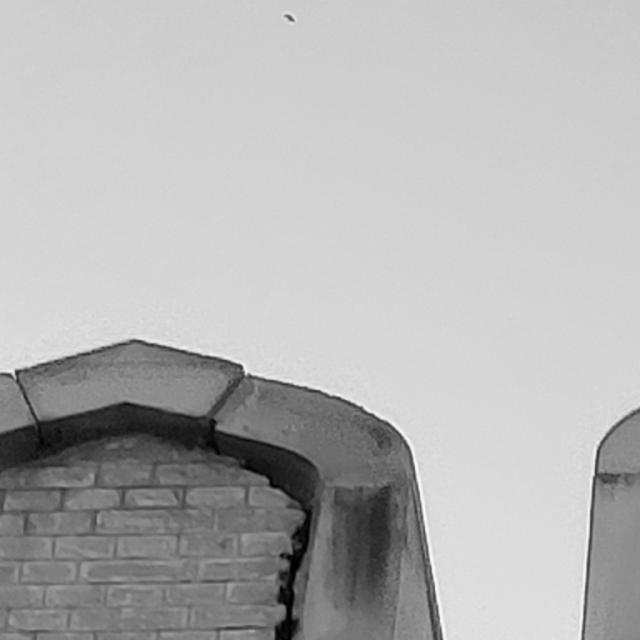crack: (241, 458, 312, 640)
